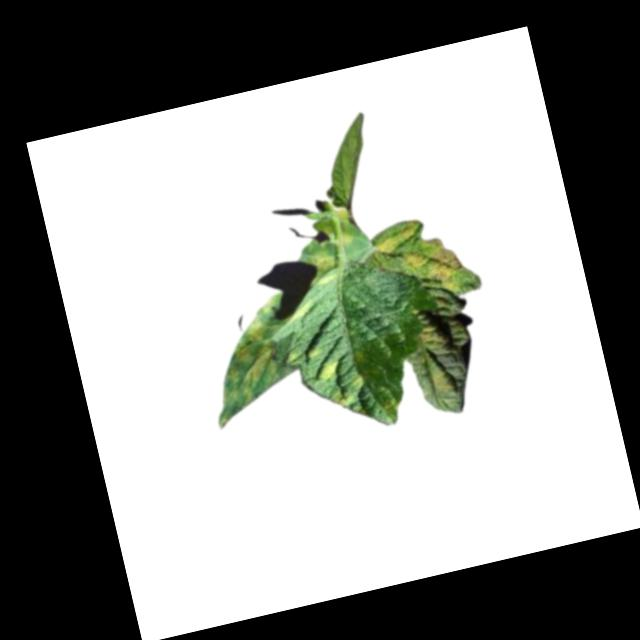Leaf_Mold: (191, 295, 304, 426), (373, 211, 468, 307), (410, 311, 469, 358), (420, 363, 458, 401), (304, 246, 340, 278), (311, 358, 340, 384)
